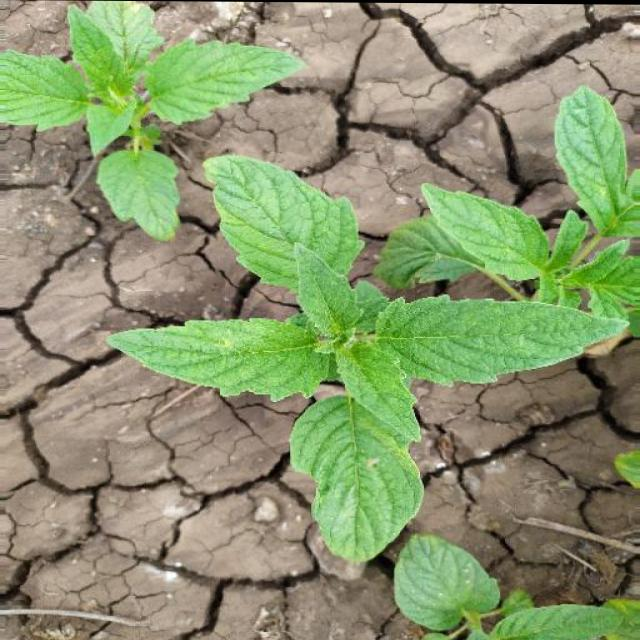crop: (94, 153, 640, 562), (2, 1, 306, 241)
